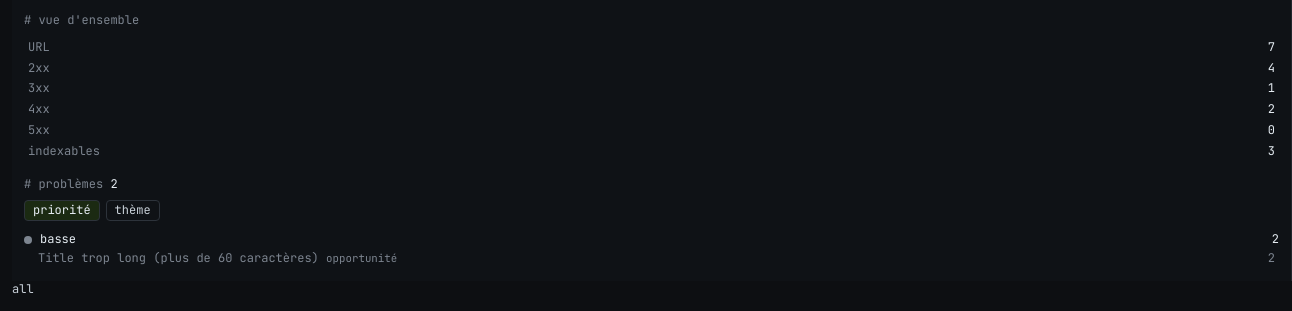
Scenario: un thème sans problème n’apparaît pas
The image size is (1292, 311).
Step 1. Click the button "thème" → (133, 211), box [106, 200, 160, 221]
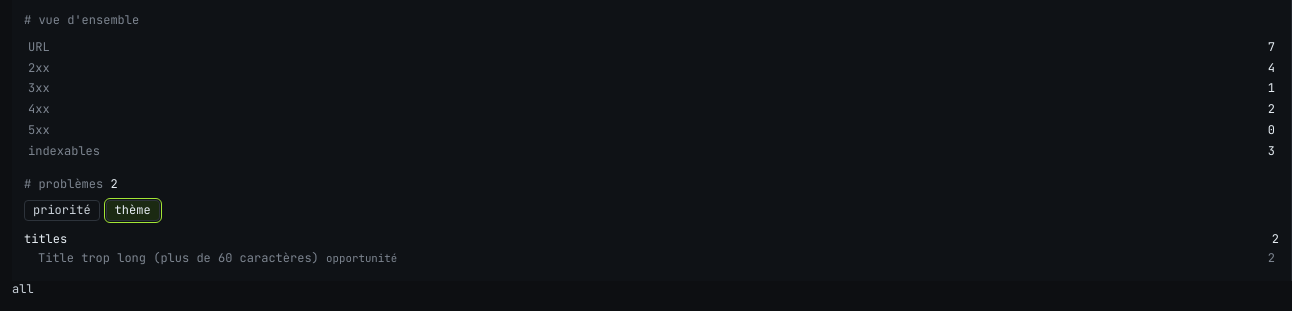
Result: the heading "titles 2" is shown at [24, 231, 1279, 248]
